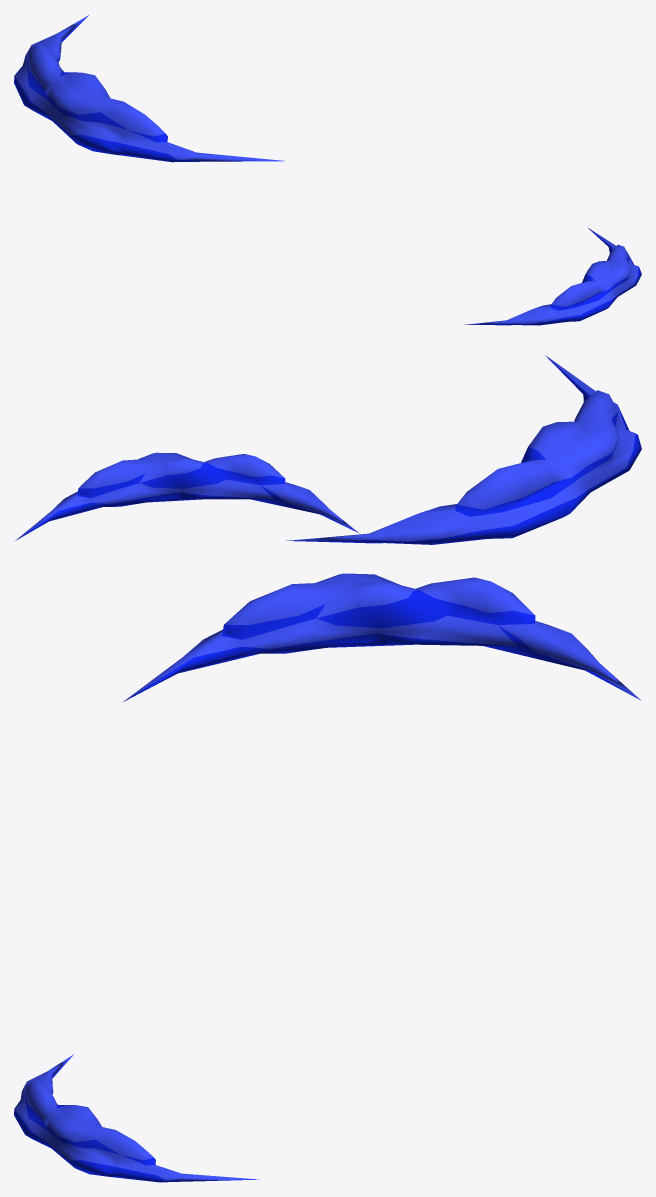
The model's file is Clouds_002.fbx.
3 renders of one model, top to bottom at view 1: azimuth 30°, elevation 25°; view 2: azimuth 150°, elevation 25°; view 3: azimuth 270°, elevation 25°, orthographic. The views are drawn at different scales.
Visible parts, largest first — view 1: cloud:Clouds; view 2: cloud:Clouds; view 3: cloud:Clouds.
Boxes of the visible parts, <box> form: cloud:Clouds: <box>14,15,641,325</box>; cloud:Clouds: <box>14,355,641,544</box>; cloud:Clouds: <box>14,573,640,1182</box>.
Bounding box in the file's own units: 742 × 336 × 617.
